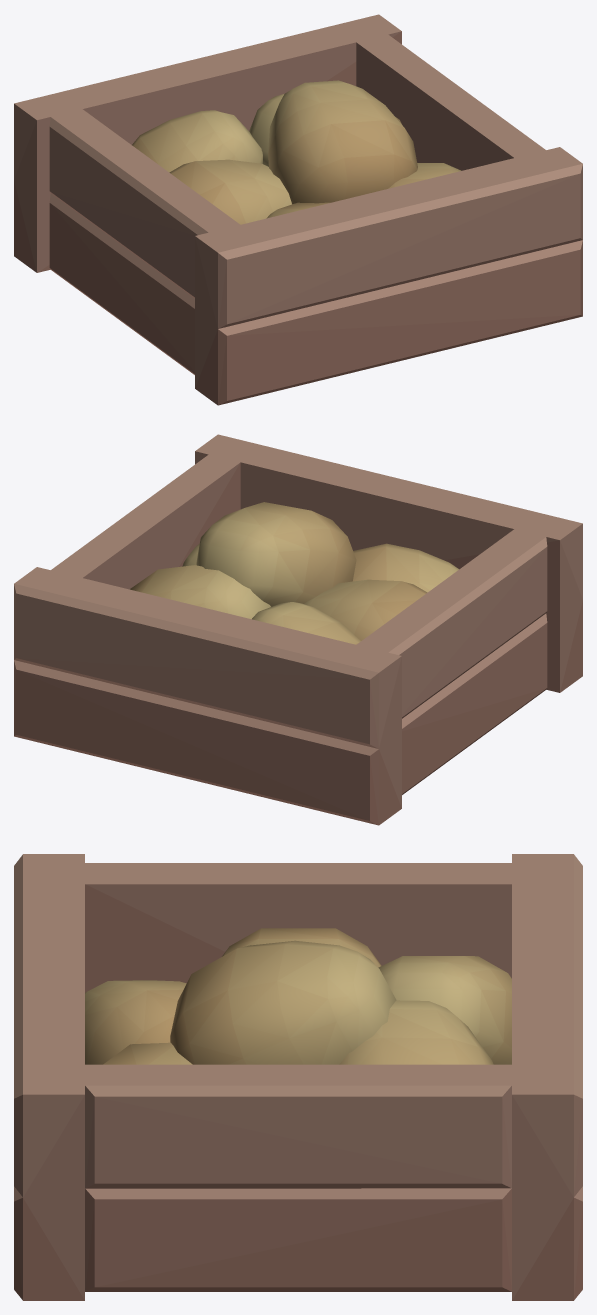
The model's file is caixote_batata.fbx.
3 views of the same model, one above another, from view 1: azimuth 30°, elevation 25°; view 2: azimuth 150°, elevation 25°; view 3: azimuth 270°, elevation 25° (orthographic). The views are drawn at different scales.
Visible parts, largest first — view 1: crate_potatoes; view 2: crate_potatoes; view 3: crate_potatoes.
Boxes of the visible parts, x1,y1,x2,y2 form: crate_potatoes: [14, 14, 582, 405]; crate_potatoes: [14, 434, 582, 825]; crate_potatoes: [14, 854, 582, 1300].
Bounding box in the file's own units: 200 × 96.58 × 200.
